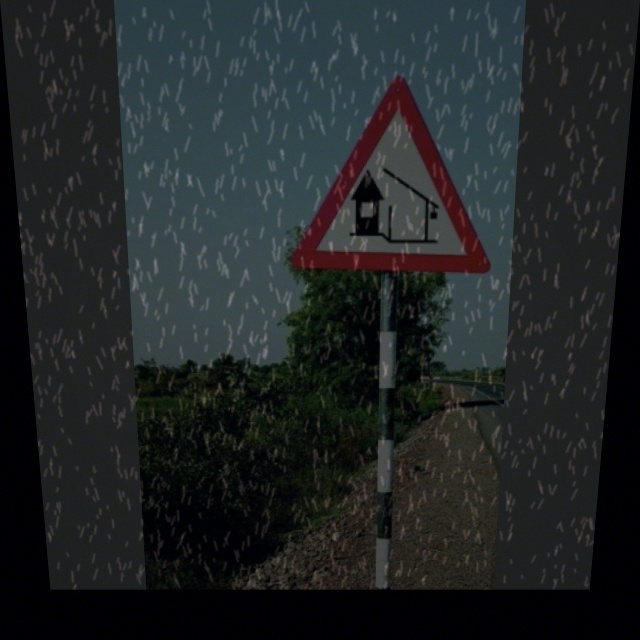Barrier_Ahead: (289, 76, 499, 285)
